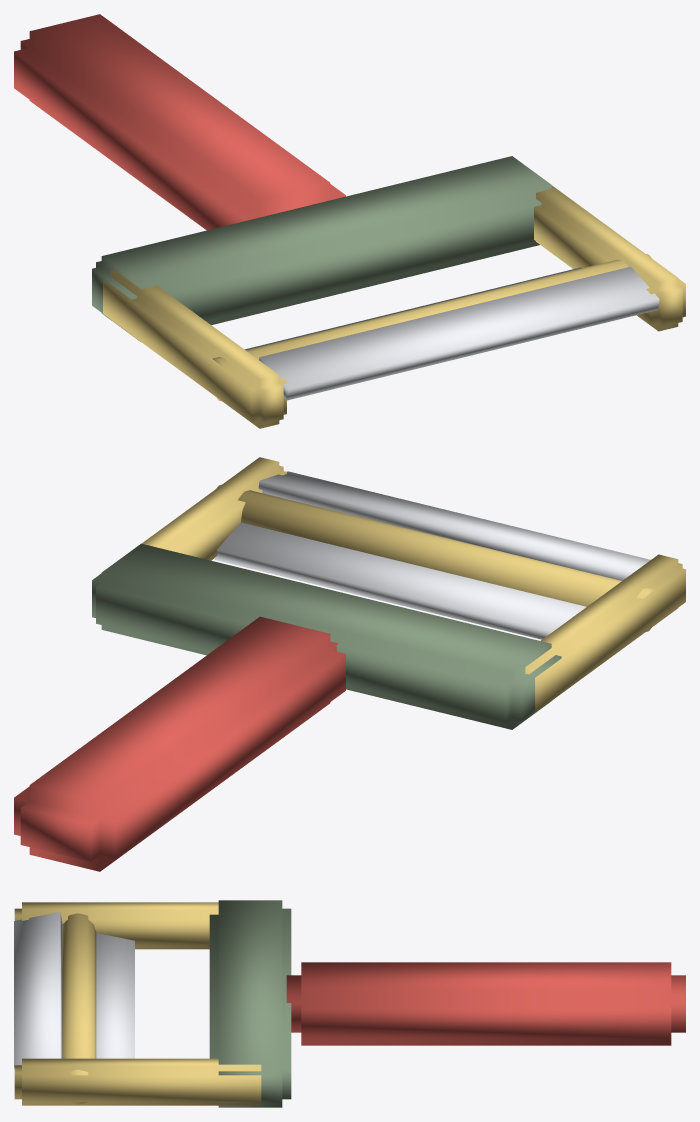
Rendered from peeler-double.glb.
3 views of the same model, one above another, from view 1: azimuth 30°, elevation 25°; view 2: azimuth 150°, elevation 25°; view 3: azimuth 270°, elevation 25° (orthographic). The views are drawn at different scales.
Parts seen in each view (by area): view 1: Planer_Frame, Blade_Twin; view 2: Planer_Frame, Blade_Twin; view 3: Planer_Frame, Blade_Twin.
Boxes of the visible parts, bbox=[...] form: Planer_Frame: bbox=[14, 14, 685, 428]; Blade_Twin: bbox=[213, 254, 659, 401]; Planer_Frame: bbox=[14, 457, 685, 871]; Blade_Twin: bbox=[214, 471, 655, 639]; Planer_Frame: bbox=[14, 900, 685, 1107]; Blade_Twin: bbox=[14, 912, 134, 1104].
Size of the model in its own units: 0.222 by 0.034 by 0.3703.
